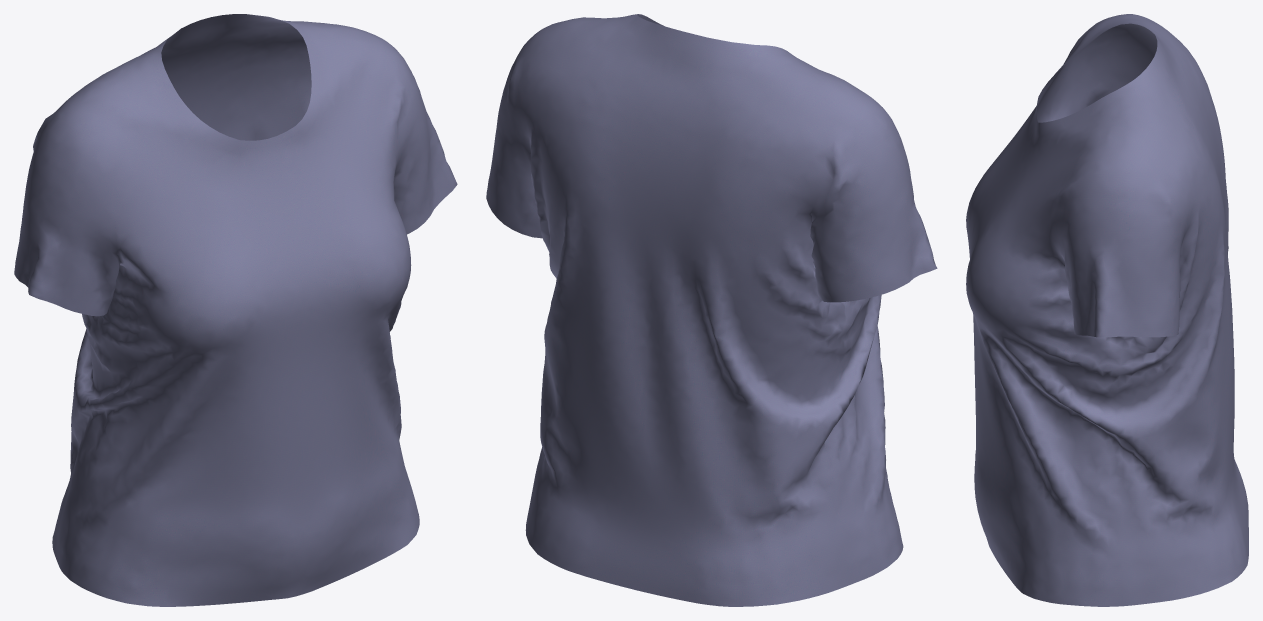
The picture shows the model from 3 angles, left to right: view 1: azimuth 30°, elevation 25°; view 2: azimuth 150°, elevation 25°; view 3: azimuth 270°, elevation 25°; orthographic projection. The views are drawn at different scales.
Visible parts, largest first — view 1: Body_Front (×2), Body_Back (×2), Sleeves (×2), Ribbing (×2); view 2: Body_Back (×2), Sleeves (×2), Body_Front, Ribbing; view 3: Body_Front (×2), Body_Back (×2), Sleeves (×2), Ribbing (×2).
Boxes of the visible parts, x1=… form: Body_Front (×2): x1=62, y1=37, x2=419, y2=606; Body_Back (×2): x1=46, y1=19, x2=396, y2=571; Sleeves (×2): x1=14, y1=46, x2=457, y2=316; Ribbing (×2): x1=147, y1=14, x2=323, y2=154; Body_Back (×2): x1=513, y1=16, x2=876, y2=606; Sleeves (×2): x1=486, y1=35, x2=937, y2=302; Body_Front: x1=792, y1=56, x2=903, y2=575; Ribbing: x1=623, y1=14, x2=791, y2=57; Body_Front (×2): x1=966, y1=17, x2=1125, y2=606; Body_Back (×2): x1=1100, y1=14, x2=1248, y2=606; Sleeves (×2): x1=1051, y1=23, x2=1182, y2=337; Ribbing (×2): x1=1033, y1=23, x2=1164, y2=136.
Size of the model in its own units: 49.26 by 56.19 by 29.12.
